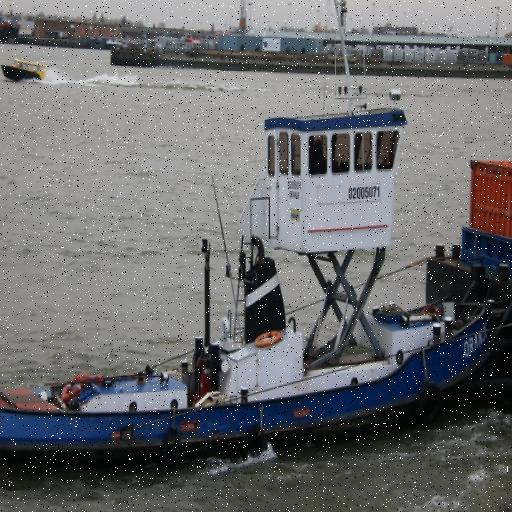tugboat: (1, 94, 502, 488)
